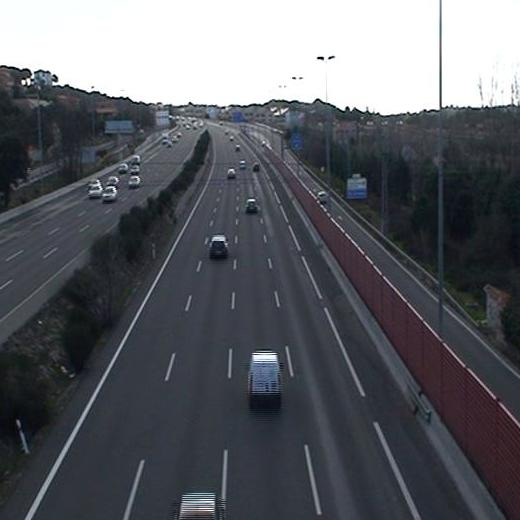car: (209, 235, 230, 261), (246, 199, 258, 213), (226, 167, 237, 180)
van: (247, 351, 279, 403)
